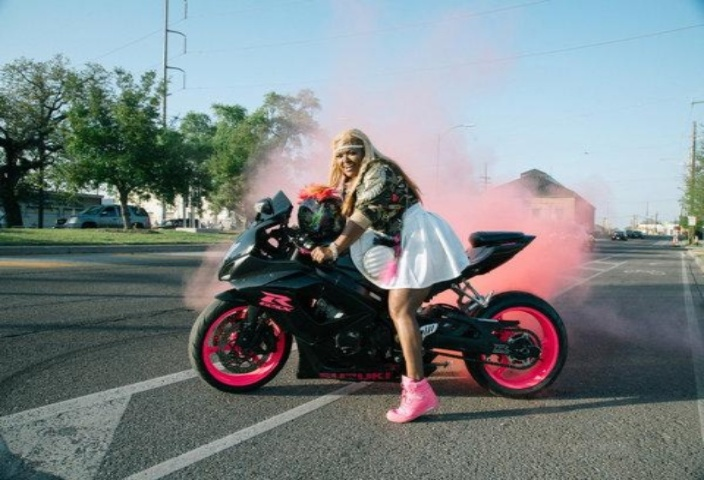motorcycle: (189, 90, 588, 432)
